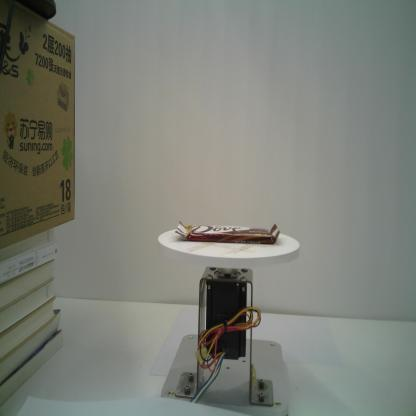Chocolate: (175, 220, 280, 245)
